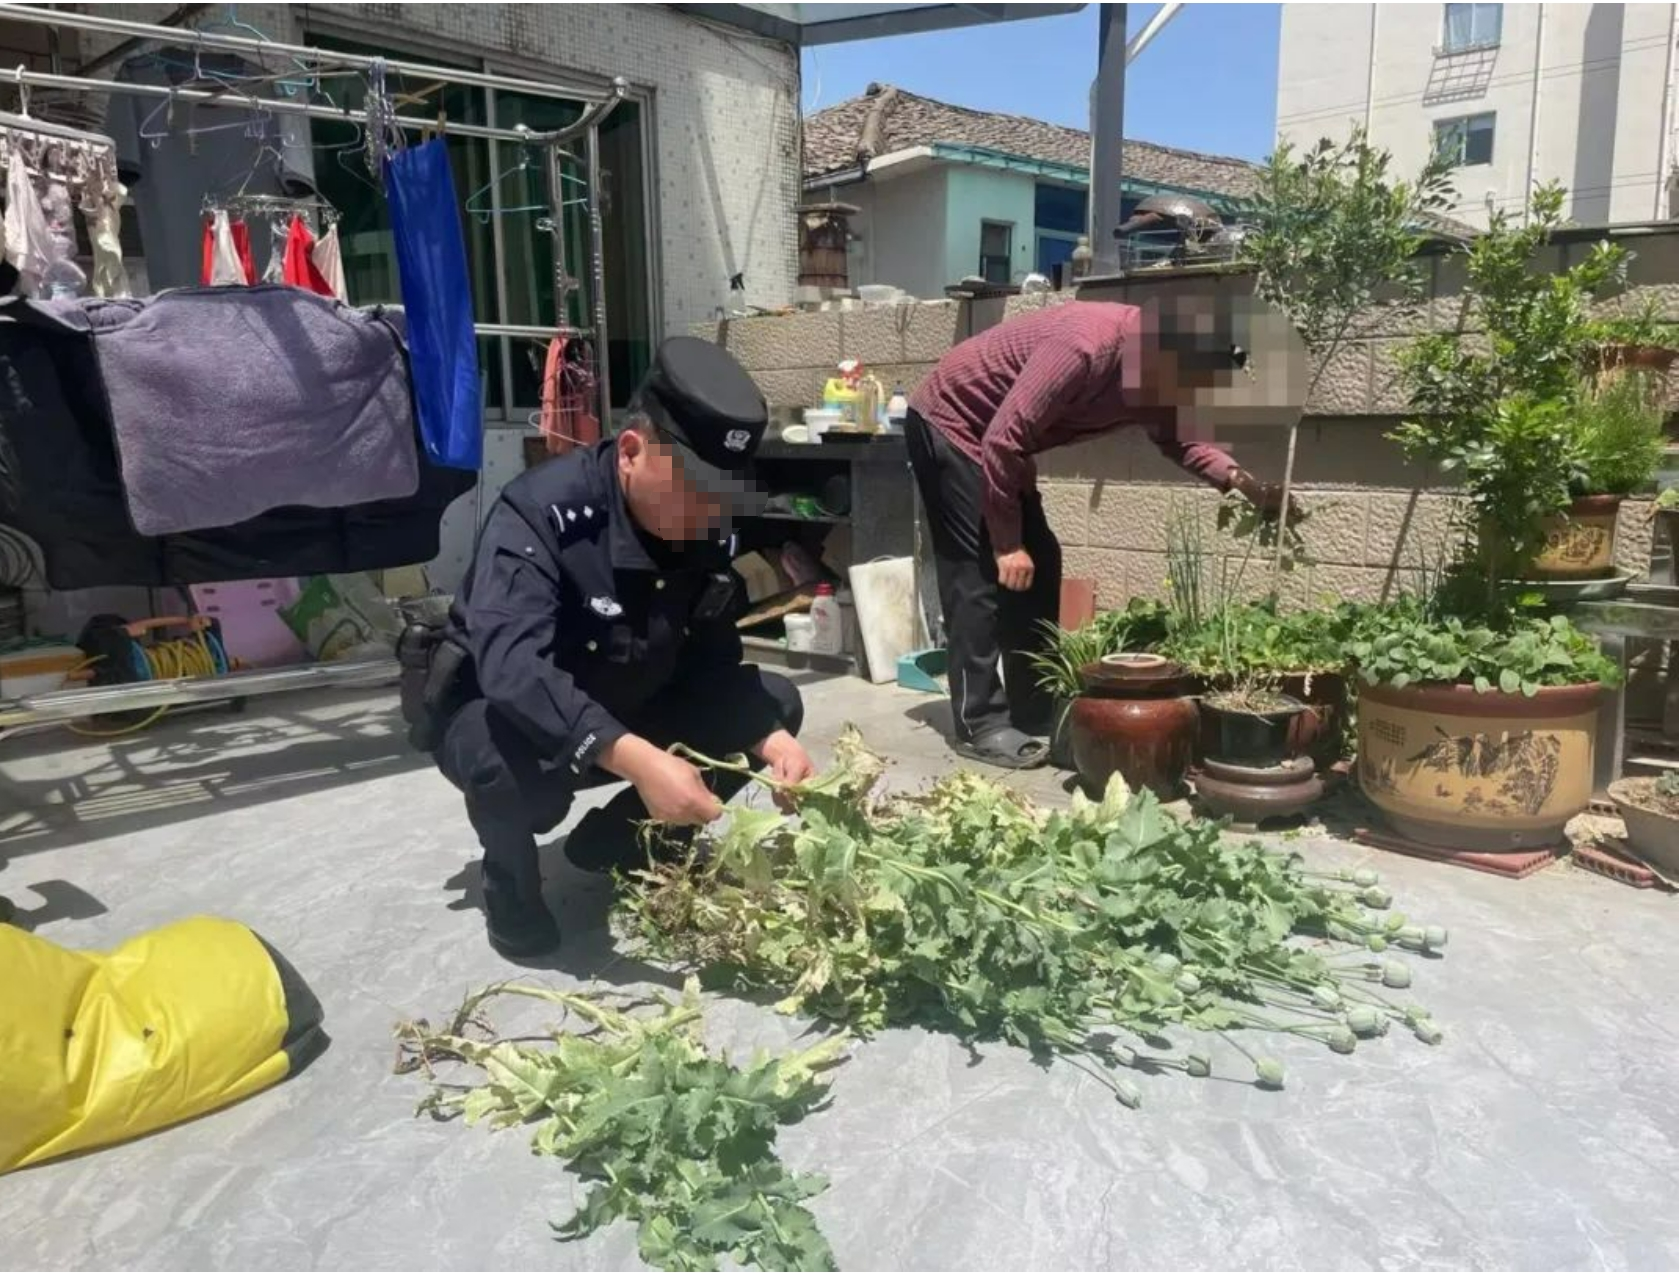Poppy: (590, 709, 1463, 1098), (389, 933, 859, 1276)
